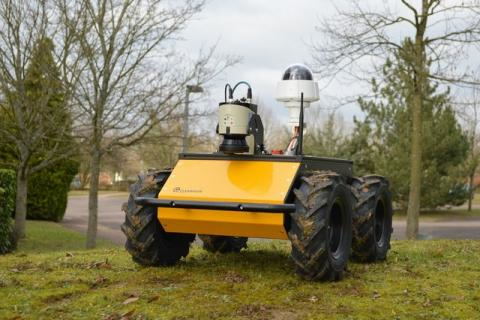husky: (120, 153, 393, 283)
